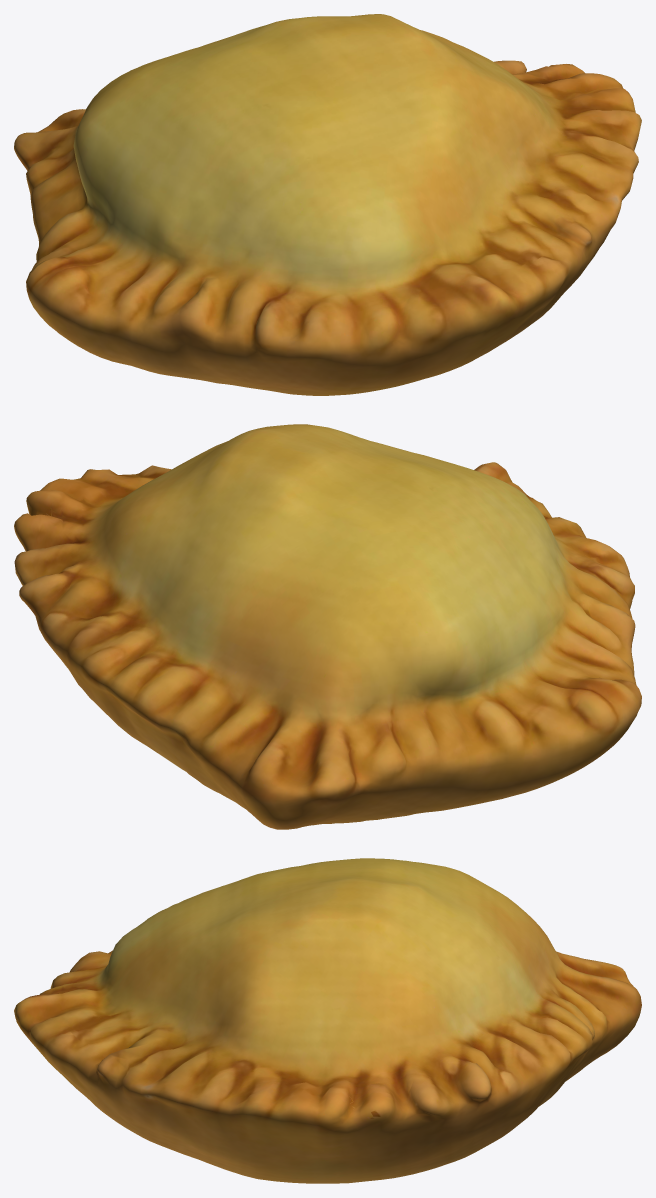
The model's file is karipap.glb.
The picture shows the model from 3 angles, top to bottom: view 1: azimuth 30°, elevation 25°; view 2: azimuth 150°, elevation 25°; view 3: azimuth 270°, elevation 25°; orthographic projection. The views are drawn at different scales.
Parts seen in each view (by area): view 1: mesh; view 2: mesh; view 3: mesh.
Part boxes in pixels (x1,y1,x2,y2): mesh: (14,14,641,395); mesh: (14,424,641,829); mesh: (14,858,641,1183).
Size of the model in its own units: 0.9988 by 0.4709 by 0.998.
Materials: 1 (1 with a texture image).
